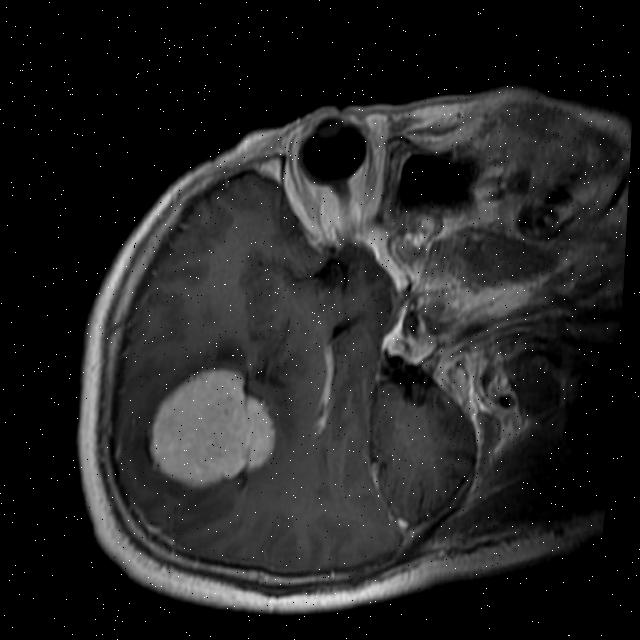Meningioma: (142, 358, 285, 496)
